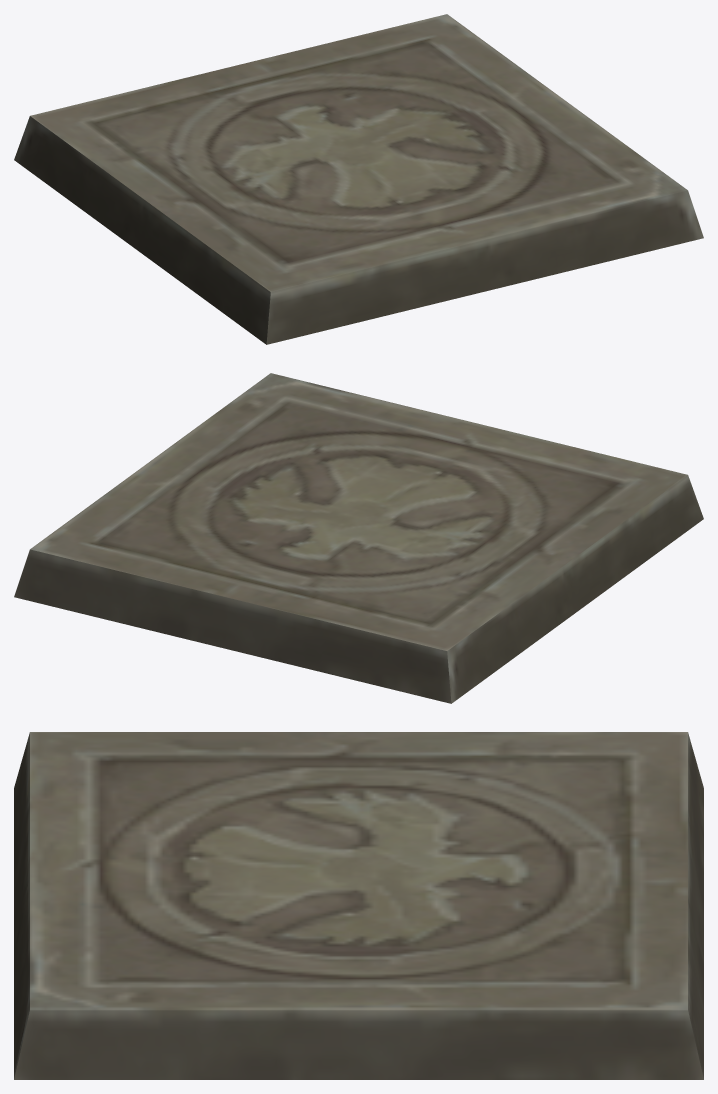
The model's file is common_city_dizhuan.FBX.
3 views of the same model, one above another, from view 1: azimuth 30°, elevation 25°; view 2: azimuth 150°, elevation 25°; view 3: azimuth 270°, elevation 25° (orthographic). The views are drawn at different scales.
Parts seen in each view (by area): view 1: Common_city_dizhuan; view 2: Common_city_dizhuan; view 3: Common_city_dizhuan.
Boxes of the visible parts, x1,y1,x2,y2 form: Common_city_dizhuan: [14, 14, 703, 344]; Common_city_dizhuan: [14, 373, 703, 703]; Common_city_dizhuan: [14, 732, 703, 1079].
Size of the model in its own units: 1.32 by 1.32 by 0.1326.
